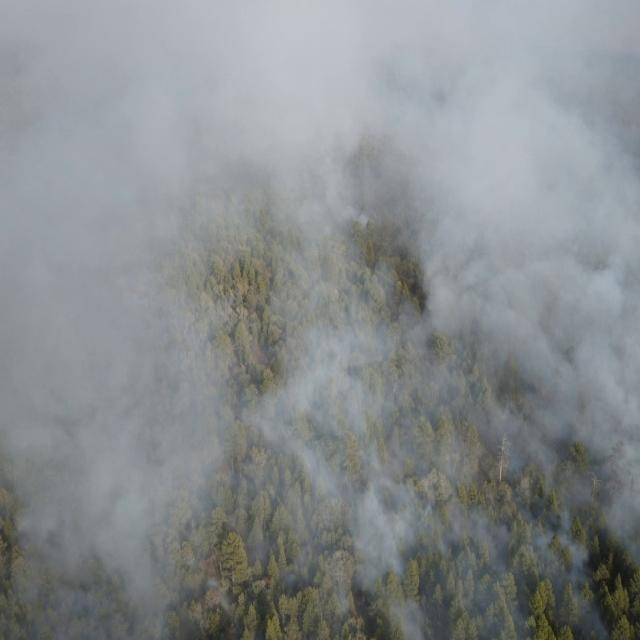fire: (259, 572, 273, 589)
smoke: (0, 0, 640, 640)
